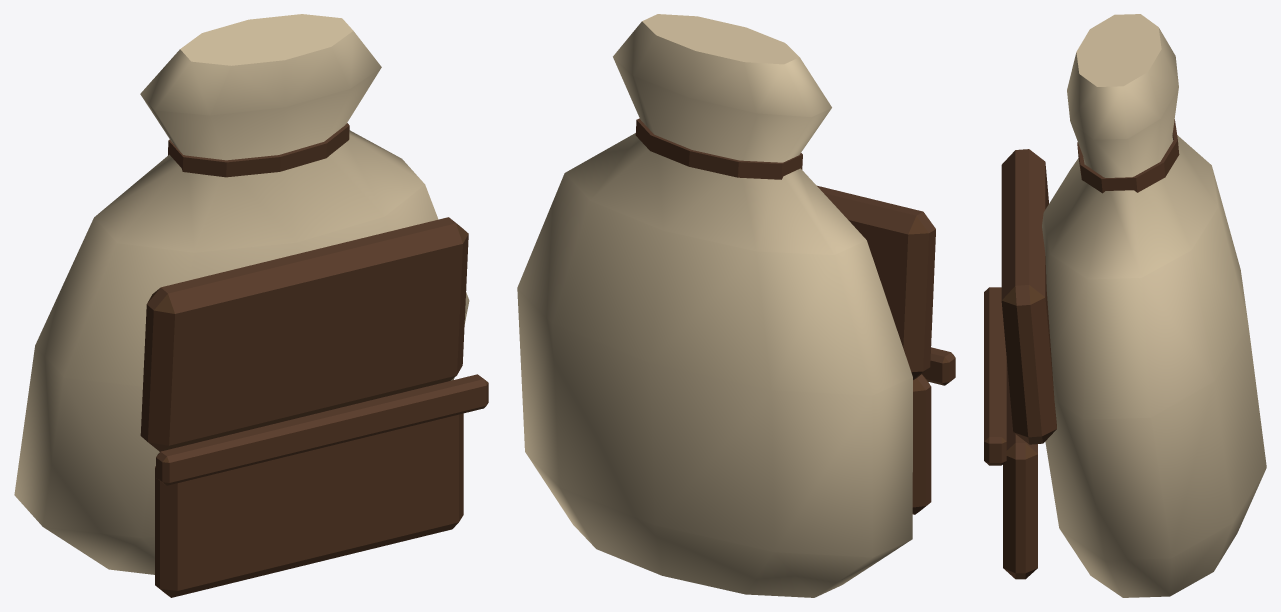
The model's file is tool_seed_pouch_a.glb.
The picture shows the model from 3 angles, left to right: view 1: azimuth 30°, elevation 25°; view 2: azimuth 150°, elevation 25°; view 3: azimuth 270°, elevation 25°; orthographic projection. The views are drawn at different scales.
Visible parts, largest first — view 1: seed_pouch_front_flap, seed_pouch_body; view 2: seed_pouch_body, seed_pouch_front_flap; view 3: seed_pouch_body, seed_pouch_front_flap.
Part boxes in pixels (left/top/right/bottom): seed_pouch_front_flap: left=140, top=123, right=488, bottom=597; seed_pouch_body: left=14, top=14, right=469, bottom=574; seed_pouch_body: left=517, top=14, right=912, bottom=597; seed_pouch_front_flap: left=635, top=118, right=955, bottom=514; seed_pouch_body: left=1042, top=14, right=1266, bottom=597; seed_pouch_front_flap: left=984, top=119, right=1179, bottom=579.
Size of the model in its own units: 0.3555 by 0.4376 by 0.2252.
